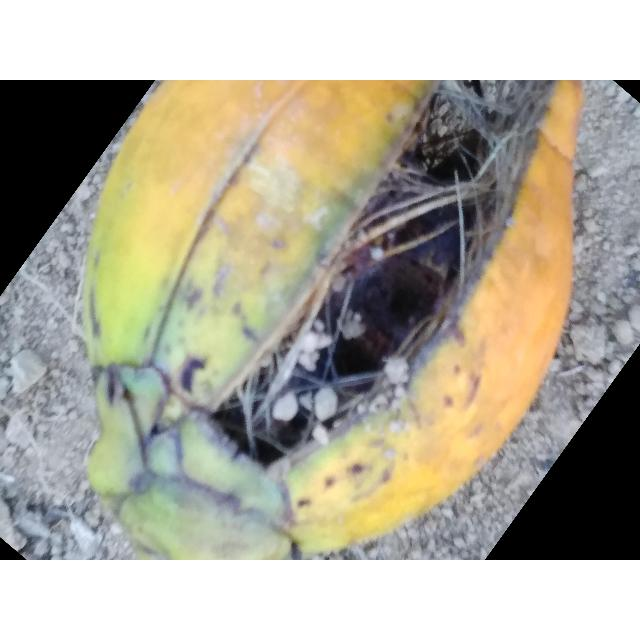damaged: (83, 80, 582, 560)
